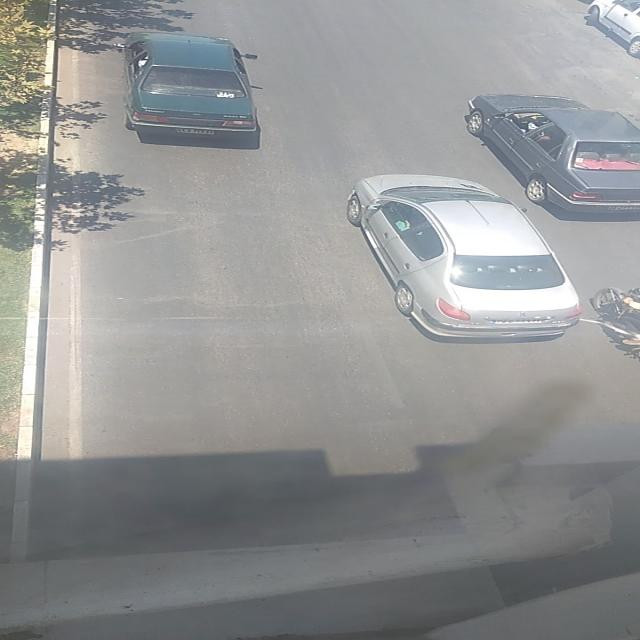car: (344, 174, 584, 340), (462, 94, 640, 218), (111, 35, 263, 135), (586, 0, 640, 58)
